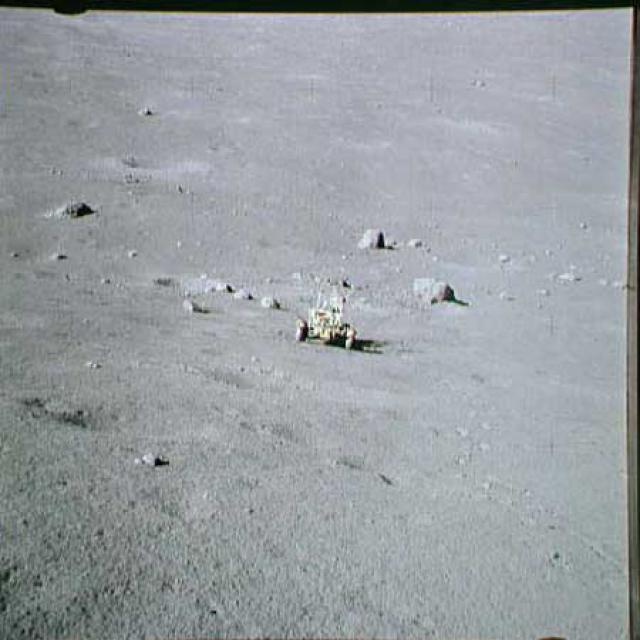artifact: (286, 264, 375, 358)
crater: (25, 384, 188, 447)
rock: (405, 270, 459, 314), (189, 272, 256, 301), (43, 194, 97, 225), (354, 221, 396, 255), (174, 295, 209, 320)
